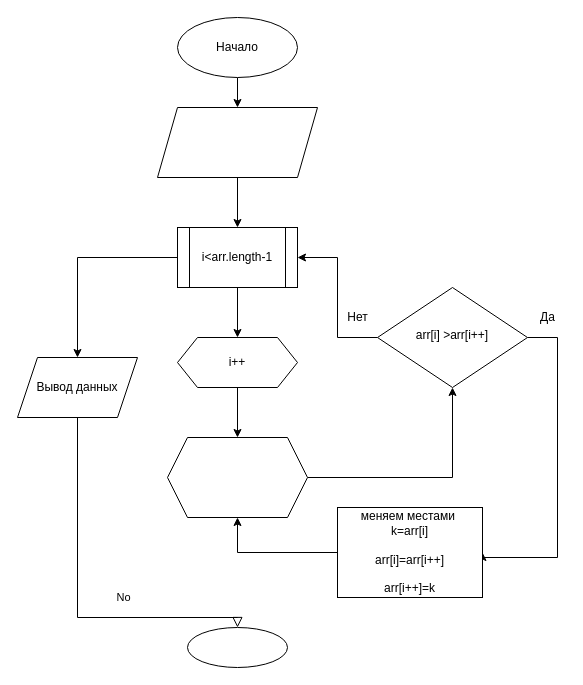
Some shapes in this 583 by 685 pixel diagram are drawn without their labels. Here are the shapes that lost their labels. From the top down, the box of each, then its label:
(156, 106, 318, 178): Ввод данных int [] arr= {x, y.....z}; i=0;
(166, 436, 308, 518): i, arr[i] = i++; arr[i++]
(186, 626, 288, 668): End
